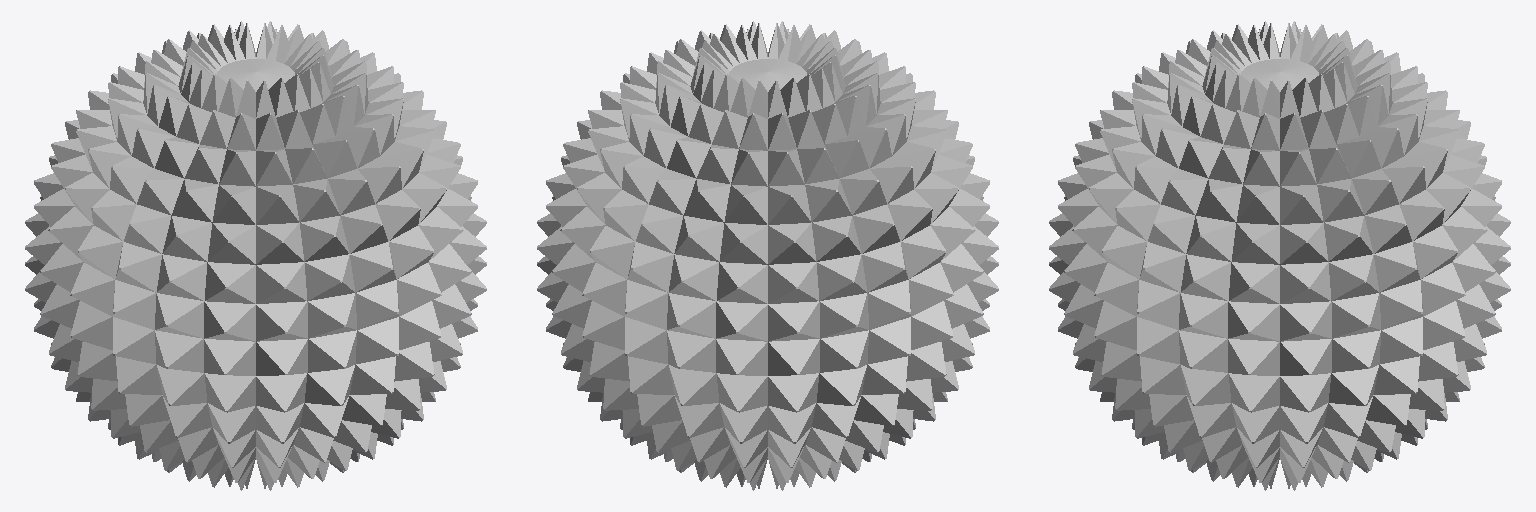
Rendered from spiked.obj.
3 renders of one model, left to right at view 1: azimuth 30°, elevation 25°; view 2: azimuth 150°, elevation 25°; view 3: azimuth 270°, elevation 25°, orthographic.
Parts seen in each view (by area): view 1: Spiked.obj; view 2: Spiked.obj; view 3: Spiked.obj.
Part boxes in pixels (left/top/right/bottom): Spiked.obj: left=25, top=21, right=486, bottom=490; Spiked.obj: left=537, top=21, right=998, bottom=490; Spiked.obj: left=1049, top=21, right=1510, bottom=490.
Bounding box in the file's own units: 3.47 × 3.39 × 3.47.